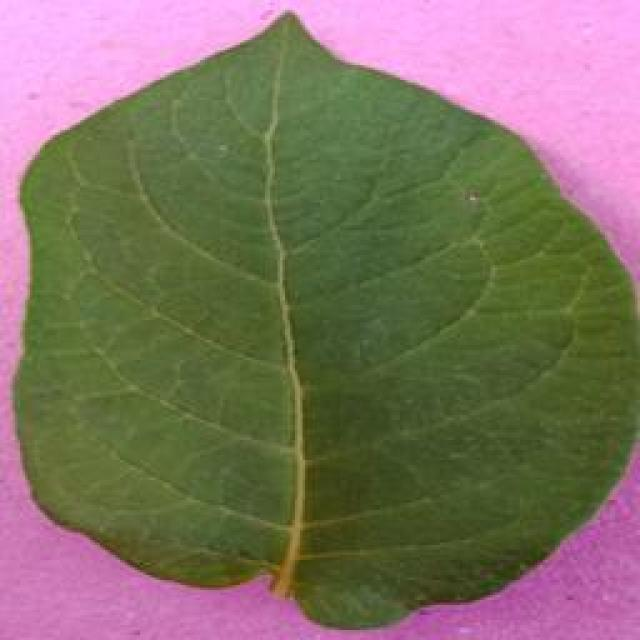Potato_Healthy: (10, 6, 630, 626)
